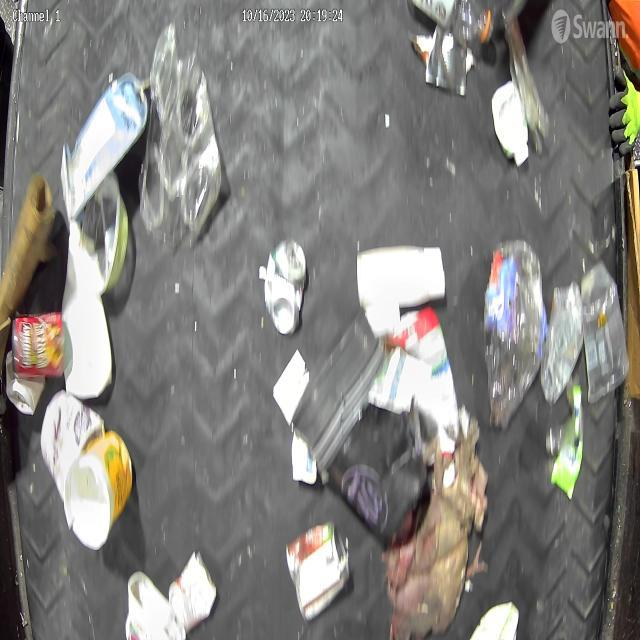can: (282, 518, 354, 624), (255, 232, 309, 344), (13, 307, 70, 387)
plastic_bottle: (484, 232, 540, 426), (404, 0, 500, 53)
